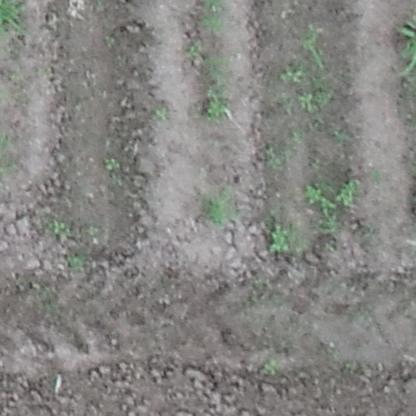corn: (202, 184, 235, 231), (298, 26, 330, 69), (203, 44, 234, 86)
vc: (101, 157, 121, 171)
